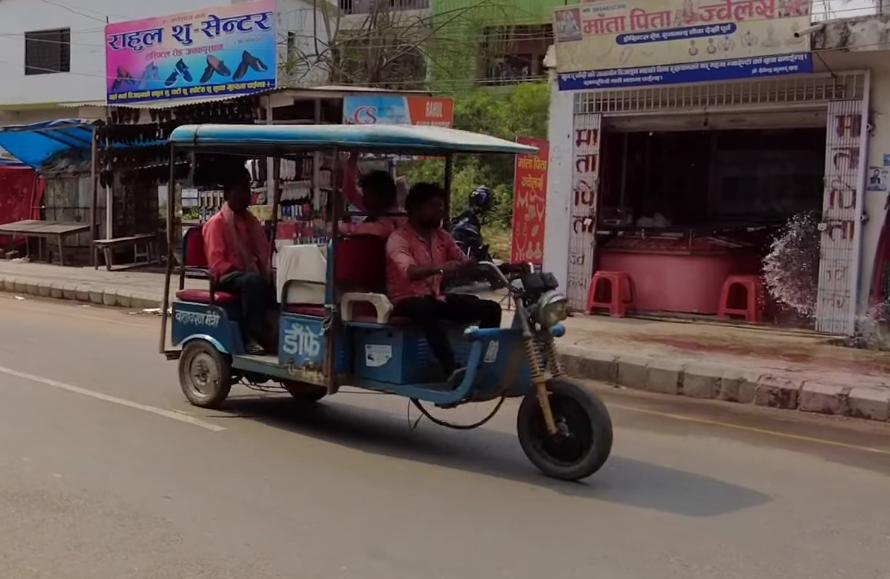e-rickshaw: (145, 107, 618, 485)
